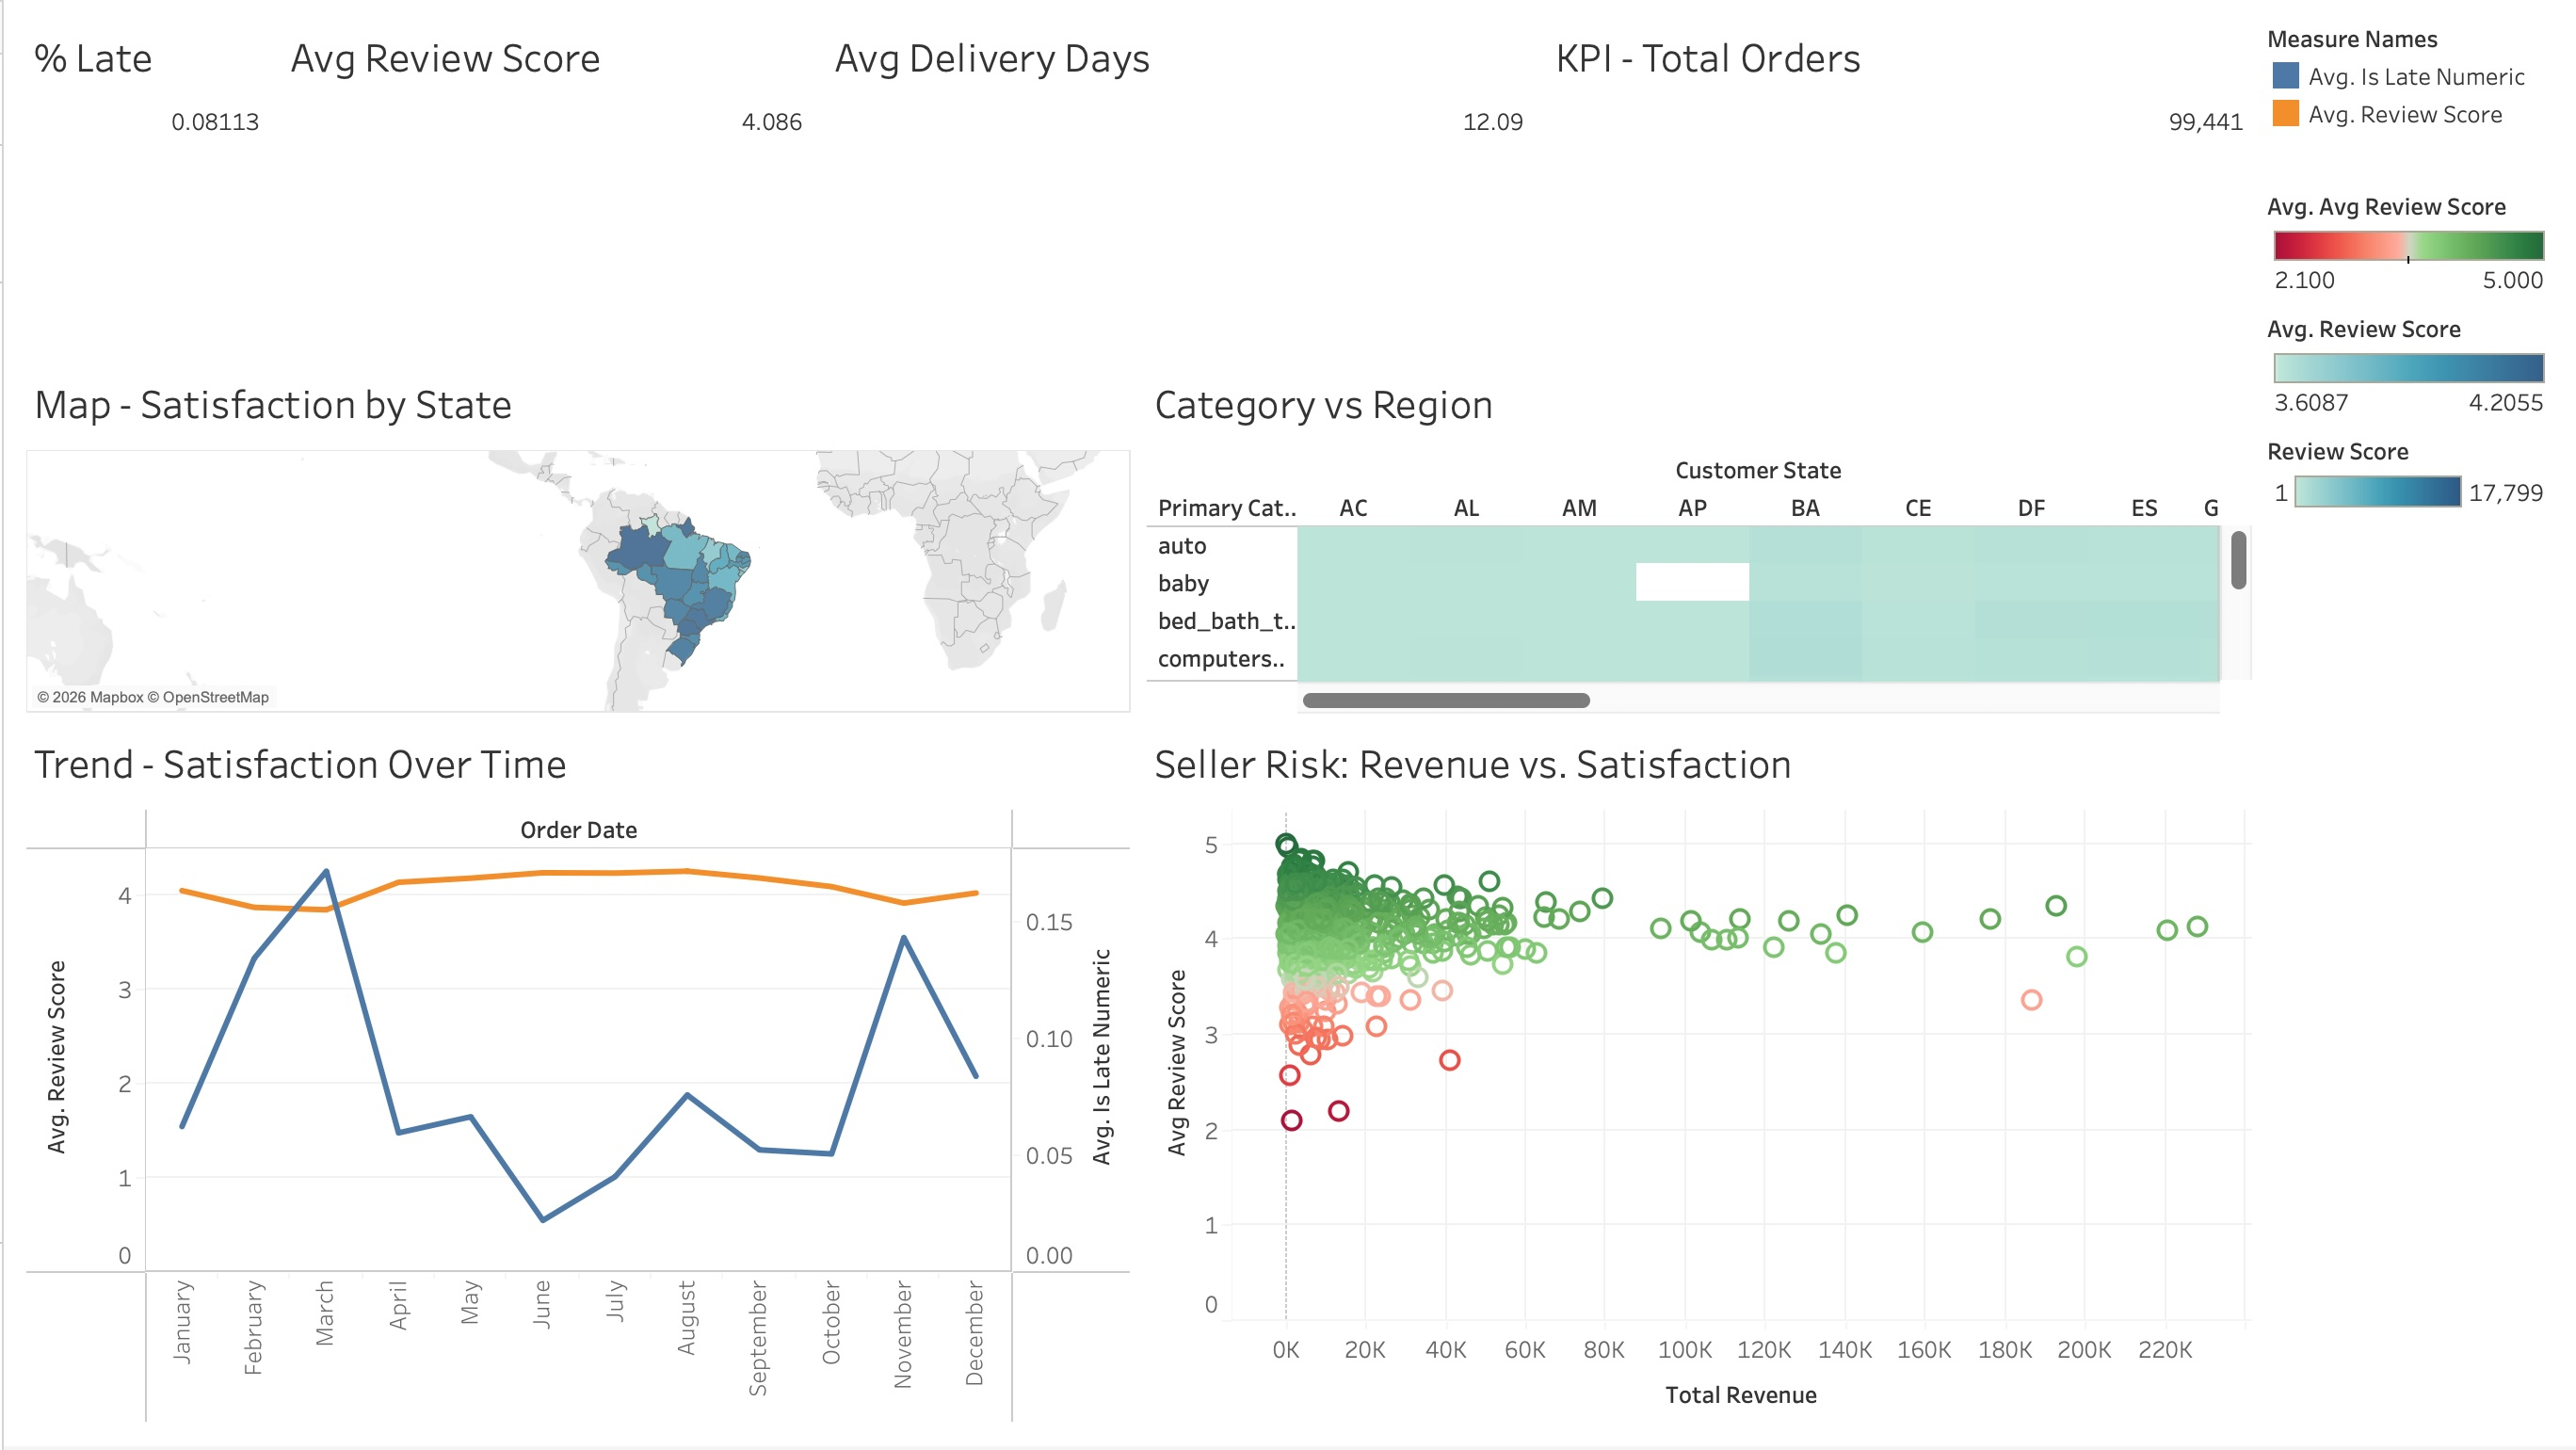

This screenshot's page, from the dashboard's own definition file:
{"tool":"tableau","page":{"name":"Dashboard 1","canvas":[1366,768],"ordinal":0},"visuals":[{"type":"worksheet","title":"KPI - % Late","mark":"Automatic","box":[8,8,136,184]},{"type":"worksheet","title":"KPI - Avg Review Score","mark":"Automatic","box":[144,8,289,184]},{"type":"worksheet","title":"KPI - Avg Delivery Days","mark":"Automatic","box":[433,8,382.5,184]},{"type":"worksheet","title":"KPI - Total Orders","mark":"Automatic","box":[815.5,8,382.5,184]},{"type":"legend","title":"Trend - Satisfaction Over Time","param":"[federated.1opjbky0py6vyl1eas6z919t8ll2].[:Measure Names]","box":[1198,8,160,89]},{"type":"legend","title":"Seller Risk: Revenue vs. Satisfaction","param":"[federated.0mqfjjk0wlhnnq1gxv0o80hj14lb].[avg:avg_review_score:qk]","box":[1198,97,160,65]},{"type":"legend","title":"Map - Satisfaction by State","param":"[federated.1opjbky0py6vyl1eas6z919t8ll2].[avg:review_score:qk]","box":[1198,162,160,65]},{"type":"worksheet","title":"Map - Satisfaction by State","mark":"Automatic","box":[8,192,595,191.2]},{"type":"worksheet","title":"Category vs Region","mark":"Square","rows":["primary_category"],"cols":["customer_state"],"box":[603,192,595,191.2]},{"type":"legend","title":"Category vs Region","param":"[federated.1opjbky0py6vyl1eas6z919t8ll2].[sum:review_score:qk]","box":[1198,227,160,65]},{"type":"worksheet","title":"Trend - Satisfaction Over Time","mark":"Automatic","rows":["review_score","Calculation_0831341469605888"],"cols":["order_date"],"box":[8,383.2,595,376.8]},{"type":"worksheet","title":"Seller Risk: Revenue vs. Satisfaction","mark":"Automatic","rows":["avg_review_score"],"cols":["total_revenue"],"box":[603,383.2,595,376.8]}]}

Visuals, with their boxes in screenshot pixels (x1, y1, x2, y2), scaled from the page's 1366x768 canvas onto the 2576x1450 screenshot:
"KPI - % Late" worksheet: select_region(15, 15, 271, 362)
"KPI - Avg Review Score" worksheet: select_region(271, 15, 816, 362)
"KPI - Avg Delivery Days" worksheet: select_region(816, 15, 1538, 362)
"KPI - Total Orders" worksheet: select_region(1538, 15, 2260, 362)
"Trend - Satisfaction Over Time" legend: select_region(2260, 15, 2561, 184)
"Seller Risk: Revenue vs. Satisfaction" legend: select_region(2260, 184, 2561, 306)
"Map - Satisfaction by State" legend: select_region(2260, 306, 2561, 428)
"Map - Satisfaction by State" worksheet: select_region(15, 362, 1137, 723)
"Category vs Region" worksheet (Square marks): select_region(1137, 362, 2260, 723)
"Category vs Region" legend: select_region(2260, 428, 2561, 552)
"Trend - Satisfaction Over Time" worksheet: select_region(15, 723, 1137, 1435)
"Seller Risk: Revenue vs. Satisfaction" worksheet: select_region(1137, 723, 2260, 1435)
